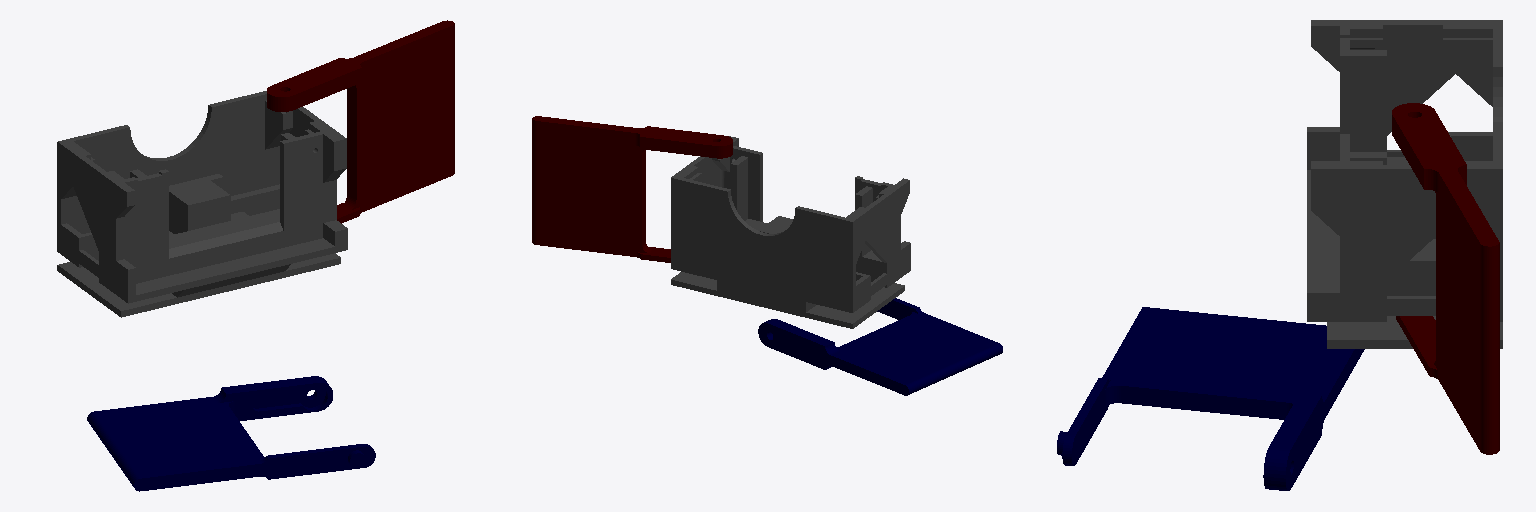
robot.urdf — visual_smarticle_meshes:
<?xml version="1.0" encoding="utf-8"?>
<!-- This URDF was automatically created by SolidWorks to URDF Exporter! Originally created by [author] ([email redacted]) 
     Commit Version: 1.5.1-0-g916b5db  Build Version: 1.5.7152.31018
     For more information, please see http://wiki.ros.org/sw_urdf_exporter -->
<robot
  name="visual_smarticle_meshes">
  <link
    name="base_link">
    <inertial>
      <origin
        xyz="0.019692 0.03506 0.045425"
        rpy="0 0 0" />
      <mass
        value="0.015011" />
      <inertia
        ixx="2.1583E-06"
        ixy="-2.1182E-08"
        ixz="-1.1038E-08"
        iyy="4.9108E-06"
        iyz="9.9459E-08"
        izz="4.807E-06" />
    </inertial>
    <visual>
      <origin
        xyz="0 0 0"
        rpy="0 0 0" />
      <geometry>
        <mesh
          filename="package://visual_smarticle_meshes/meshes/base_link.STL" />
      </geometry>
      <material
        name="">
        <color
          rgba="0.29804 0.29804 0.29804 1" />
      </material>
    </visual>
    <collision>
      <origin
        xyz="0 0 0"
        rpy="0 0 0" />
      <geometry>
        <mesh
          filename="package://visual_smarticle_meshes/meshes/base_link.STL" />
      </geometry>
    </collision>
  </link>
  <link
    name="arm_left">
    <inertial>
      <origin
        xyz="0.029707 3.4694E-17 0.018645"
        rpy="0 0 0" />
      <mass
        value="0.0039781" />
      <inertia
        ixx="5.233E-07"
        ixy="-1.3235E-22"
        ixz="8.0821E-08"
        iyy="1.161E-06"
        iyz="7.2792E-23"
        izz="6.4744E-07" />
    </inertial>
    <visual>
      <origin
        xyz="0 0 0"
        rpy="0 0 0" />
      <geometry>
        <mesh
          filename="package://visual_smarticle_meshes/meshes/arm_left.STL" />
      </geometry>
      <material
        name="">
        <color
          rgba="0.25 0 0 1" />
      </material>
    </visual>
    <collision>
      <origin
        xyz="0 0 0"
        rpy="0 0 0" />
      <geometry>
        <mesh
          filename="package://visual_smarticle_meshes/meshes/arm_left.STL" />
      </geometry>
    </collision>
  </link>
  <joint
    name="servo_left"
    type="revolute">
    <origin
      xyz="0.040642 -0.044679 0.026742"
      rpy="0 0 0.24242" />
    <parent
      link="base_link" />
    <child
      link="arm_left" />
    <axis
      xyz="0 0 -1" />
    <limit
      lower="0"
      upper="0"
      effort="0"
      velocity="0" />
  </joint>
  <link
    name="arm_right">
    <inertial>
      <origin
        xyz="0.029707 1.3878E-17 0.018645"
        rpy="0 0 0" />
      <mass
        value="0.0039781" />
      <inertia
        ixx="5.233E-07"
        ixy="-1.0092E-22"
        ixz="8.0821E-08"
        iyy="1.161E-06"
        iyz="-2.1765E-23"
        izz="6.4744E-07" />
    </inertial>
    <visual>
      <origin
        xyz="0 0 0"
        rpy="0 0 0" />
      <geometry>
        <mesh
          filename="package://visual_smarticle_meshes/meshes/arm_right.STL" />
      </geometry>
      <material
        name="">
        <color
          rgba="0 0 0.25 1" />
      </material>
    </visual>
    <collision>
      <origin
        xyz="0 0 0"
        rpy="0 0 0" />
      <geometry>
        <mesh
          filename="package://visual_smarticle_meshes/meshes/arm_right.STL" />
      </geometry>
    </collision>
  </link>
  <joint
    name="servo_right"
    type="revolute">
    <origin
      xyz="-0.0017576 -0.044679 0.026742"
      rpy="0 0 -3.1366" />
    <parent
      link="base_link" />
    <child
      link="arm_right" />
    <axis
      xyz="0 0 -1" />
    <limit
      lower="0"
      upper="0"
      effort="0"
      velocity="0" />
  </joint>
</robot>

--- Facts derived from the render (not from the file) ---
The picture shows the robot from 3 angles, left to right: view 1: azimuth 30°, elevation 25°; view 2: azimuth 150°, elevation 25°; view 3: azimuth 270°, elevation 25°; orthographic projection.
Model visual_smarticle_meshes with 3 links and 2 joints (2 revolute), rooted at base_link, posed every joint at zero.
Links seen in each view (by area): view 1: base_link, arm_left, arm_right; view 2: base_link, arm_left, arm_right; view 3: base_link, arm_right, arm_left.
Boxes of the visible links, box(x1,y1,x2,y2) form: base_link: box(57, 91, 347, 317); arm_left: box(267, 20, 454, 223); arm_right: box(87, 376, 375, 491); base_link: box(671, 136, 910, 328); arm_left: box(532, 116, 732, 262); arm_right: box(758, 298, 1002, 395); base_link: box(1307, 20, 1502, 348); arm_right: box(1057, 307, 1364, 490); arm_left: box(1392, 103, 1499, 454).
Size in the robot's own frame: 0.1089 by 0.0684 by 0.0653 metres.
Meshes: 3 distinct files referenced, 3 mesh visuals loaded (3 binary STL).